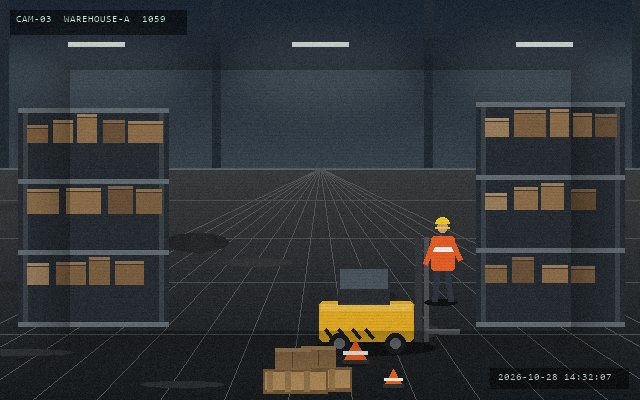cone: (341, 338, 369, 366), (382, 367, 404, 390)
forklift: (315, 234, 461, 355)
pallet: (261, 367, 329, 395), (287, 365, 353, 393)
person: (423, 215, 462, 304)
shelf: (476, 102, 624, 322), (18, 108, 168, 322)
